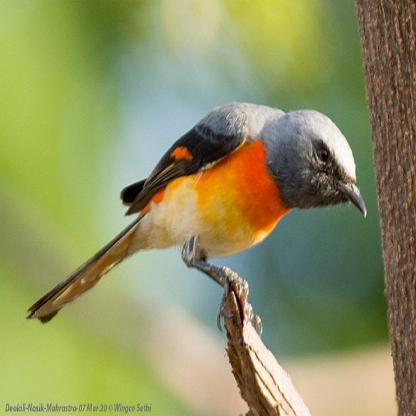Burung: (24, 100, 366, 324)
